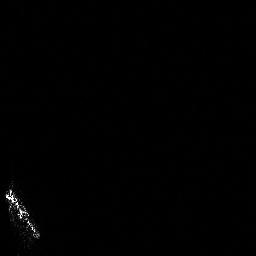ship: (2, 181, 42, 248)
